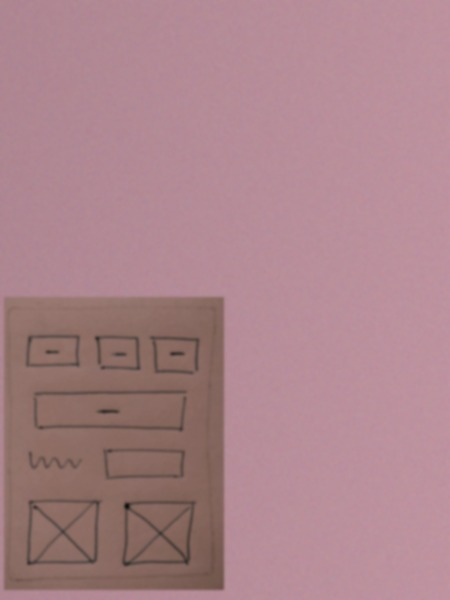button: (30, 388, 191, 434), (147, 333, 203, 379), (21, 331, 87, 370), (93, 333, 143, 372)
image: (22, 494, 106, 566), (120, 495, 198, 570)
text: (24, 449, 86, 475)
text_input: (99, 446, 190, 485)
